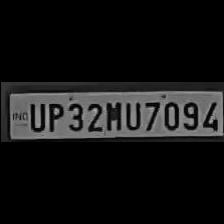0: (160, 98, 180, 130)
2: (83, 99, 103, 131)
3: (64, 100, 82, 132)
4: (199, 98, 219, 130)
7: (140, 98, 160, 130)
9: (179, 98, 199, 130)
M: (102, 98, 122, 132)
P: (44, 100, 62, 132)
U: (122, 98, 142, 130), (25, 99, 43, 131)
